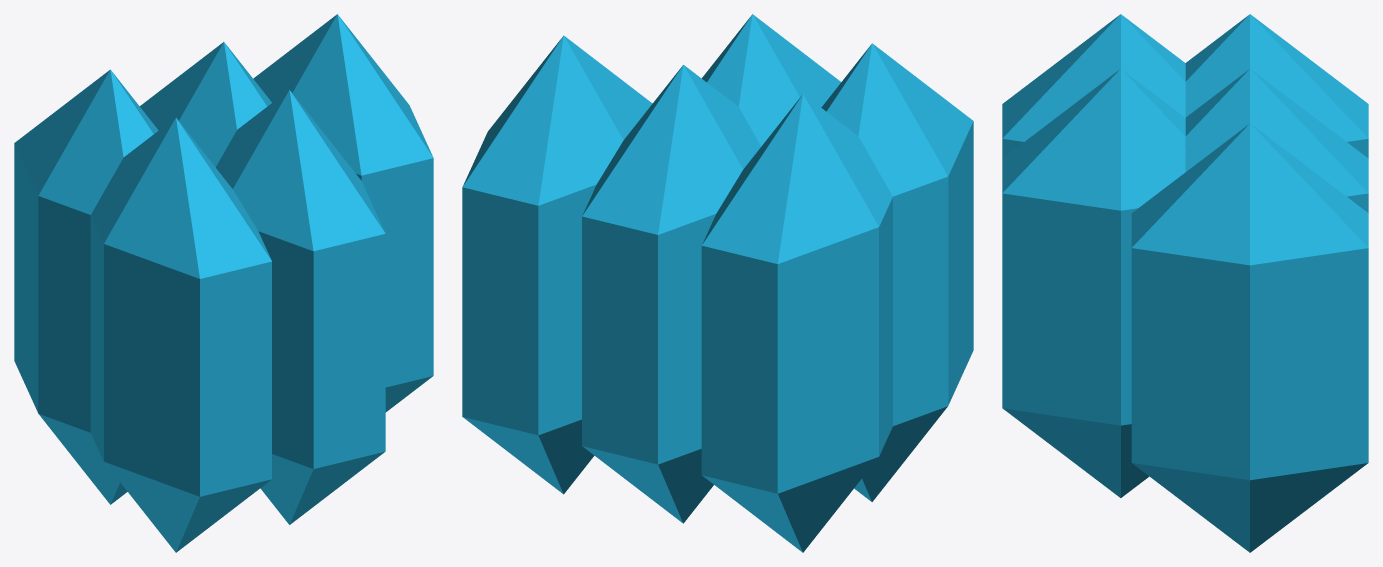
The model's file is aether.glb.
The picture shows the model from 3 angles, left to right: view 1: azimuth 30°, elevation 25°; view 2: azimuth 150°, elevation 25°; view 3: azimuth 270°, elevation 25°; orthographic projection. The views are drawn at different scales.
Parts seen in each view (by area): view 1: seam; view 2: seam; view 3: seam.
Part boxes in pixels (box(x1,y1,x2,y2)): seam: box(14, 14, 433, 552); seam: box(462, 14, 973, 552); seam: box(1002, 14, 1368, 552).
Bounding box in the file's own units: 1.47 × 1.65 × 1.28.
